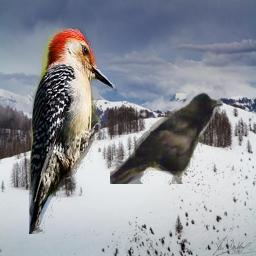Crow: (111, 92, 224, 185)
Woodpecker: (29, 28, 117, 234)
